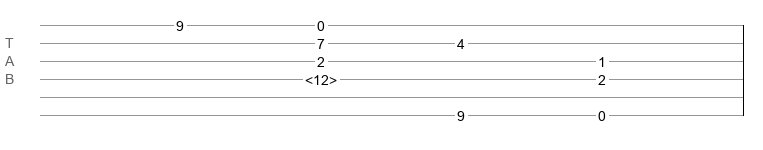0: (317, 18, 325, 28), (598, 108, 606, 118)
1: (598, 54, 606, 64)
2: (317, 54, 325, 64), (598, 72, 606, 82)
4: (457, 36, 465, 46)
7: (317, 36, 325, 46)
9: (176, 18, 184, 28), (457, 108, 465, 118)
harmonic: (305, 72, 337, 82)
